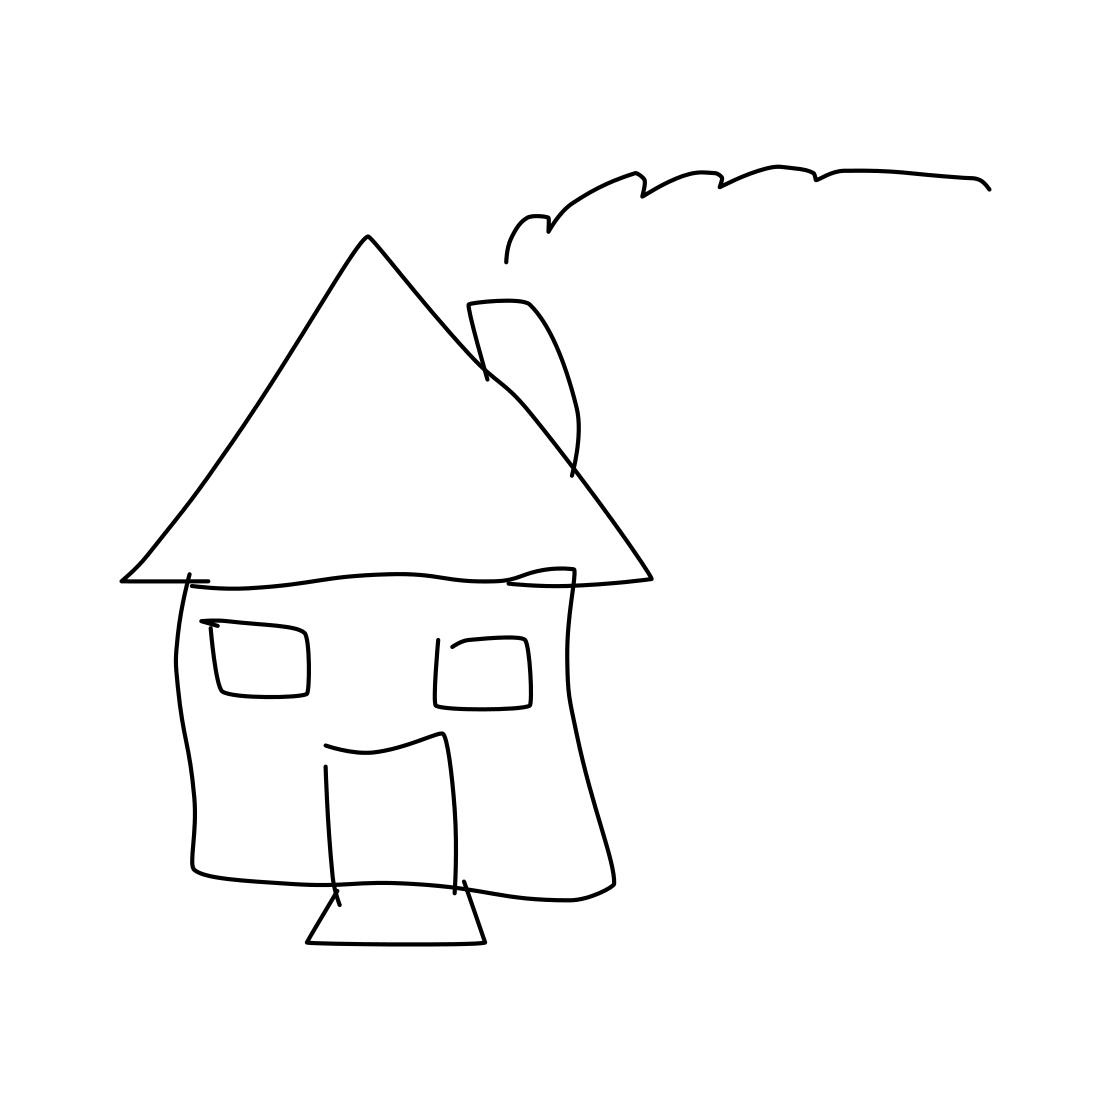House: (107, 198, 680, 963)
